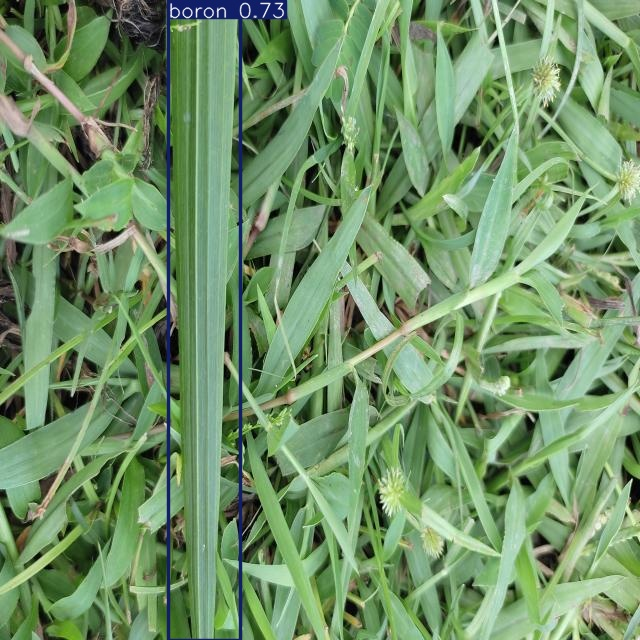nitrogen: (168, 0, 240, 640)
